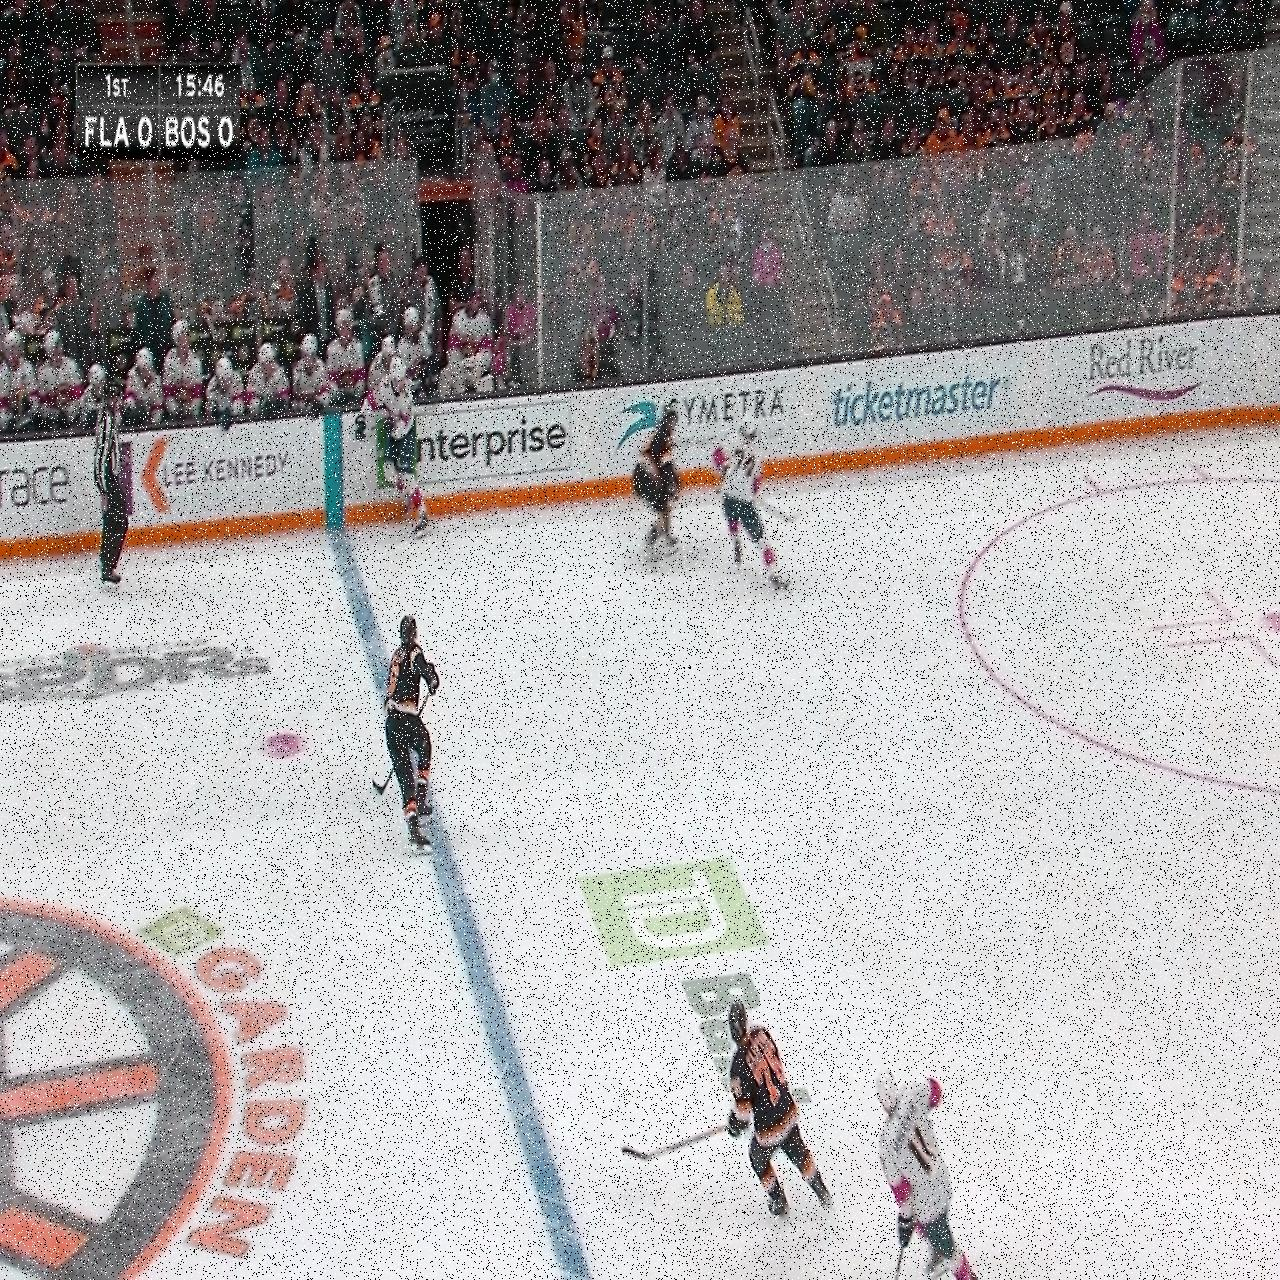Ad: (564, 860, 830, 1149), (0, 632, 278, 737), (114, 441, 304, 523), (832, 362, 1029, 434), (372, 415, 580, 482), (607, 384, 802, 448), (1085, 334, 1208, 407), (0, 457, 81, 543)
